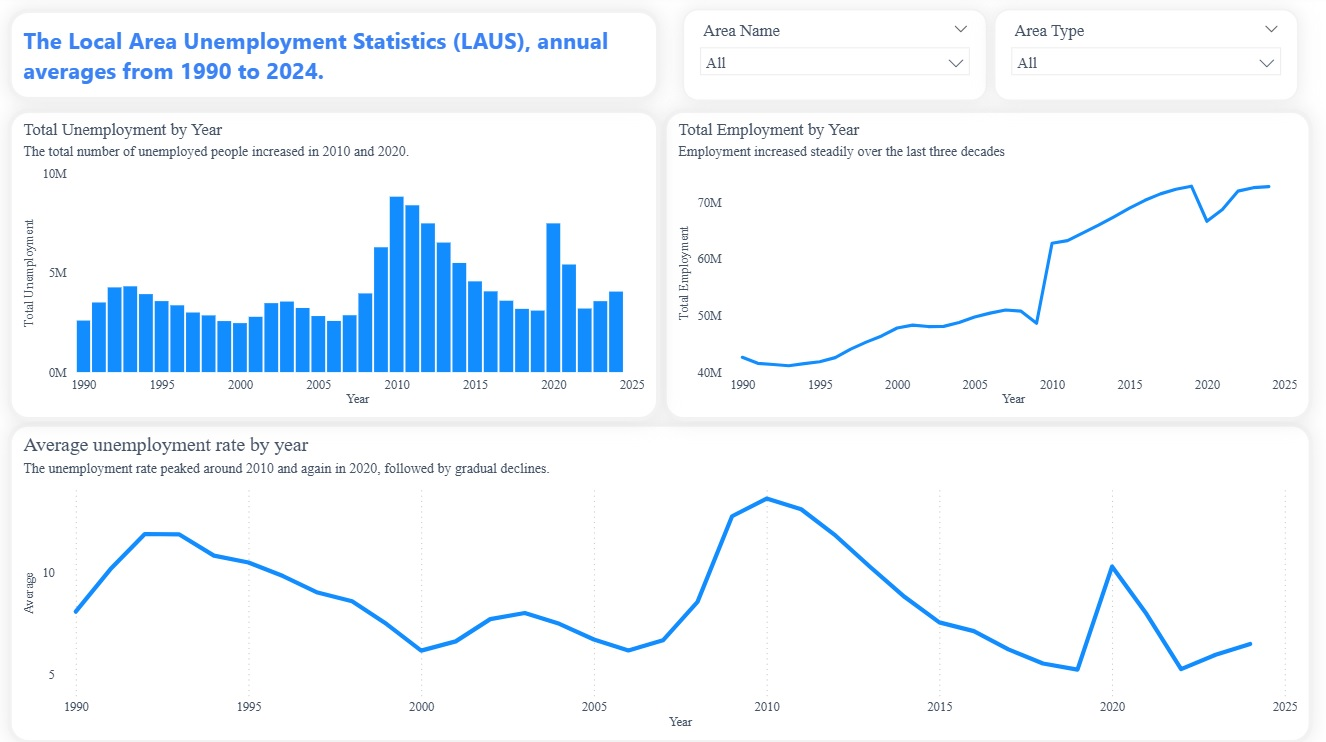

The page's visual inventory and layout, read from the dashboard file:
{"tool":"powerbi","page":{"name":"Page 1","canvas":[1280,720],"ordinal":0},"visuals":[{"type":"lineChart","title":"Average unemployment rate by year","fields":{"Category":["unemployment.Year"],"Y":["Avg(unemployment.Unemployment Rate)"]},"box":[16.5,407.5,1243.2,306],"z":0},{"type":"lineChart","title":"Total Employment by Year","fields":{"Category":["unemployment.Year"],"Y":["Sum(unemployment.Employment)"]},"box":[640.5,108.3,619.1,297.6],"z":1000},{"type":"slicer","fields":{"Values":["unemployment.Area Name"]},"box":[659.5,13.1,290.5,88.1],"z":2000},{"type":"columnChart","title":"Total Unemployment by Year","fields":{"Category":["unemployment.Year"],"Y":["Sum(unemployment.Unemployment)"]},"box":[16.7,108.3,621.4,297.6],"z":3000},{"type":"slicer","fields":{"Values":["unemployment.Area Type"]},"box":[956,13.1,290,88.1],"z":4000},{"type":"textbox","box":[16.7,13.1,621.4,88],"z":5000}]}

Visuals, with their boxes in screenshot pixels (x1, y1, x2, y2), scaled from the page's 1280x720 canvas onto the 1326x742 screenshot:
"Average unemployment rate by year" lineChart: box=[17, 420, 1305, 735]
"Total Employment by Year" lineChart: box=[664, 112, 1305, 418]
slicer - unemployment.Area Name: box=[683, 14, 984, 104]
"Total Unemployment by Year" columnChart: box=[17, 112, 661, 418]
slicer - unemployment.Area Type: box=[990, 14, 1291, 104]
textbox: box=[17, 14, 661, 104]
